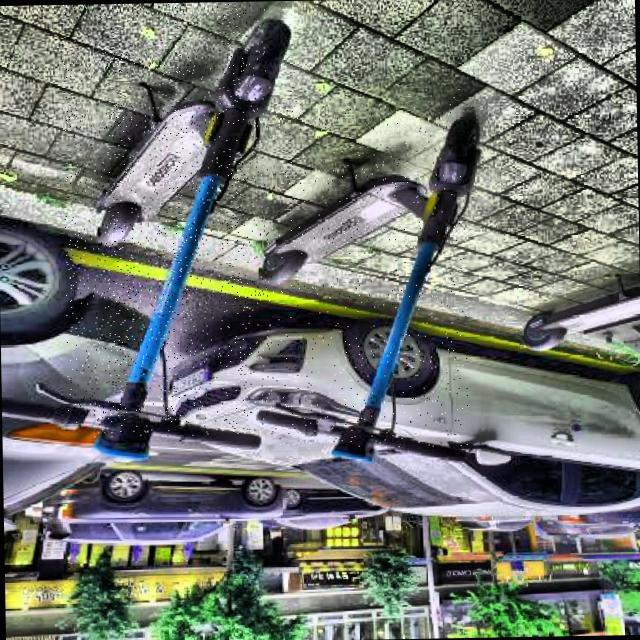bike: (1, 86, 638, 530), (1, 20, 490, 526)
